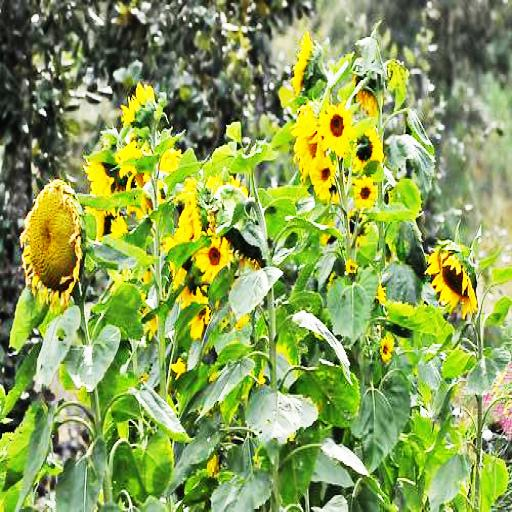sunflower: (21, 180, 80, 308), (427, 233, 480, 321), (318, 104, 352, 154), (292, 32, 320, 91), (91, 200, 127, 244), (120, 85, 161, 123), (196, 235, 230, 279), (308, 152, 337, 200), (353, 126, 382, 170), (355, 173, 376, 213)
